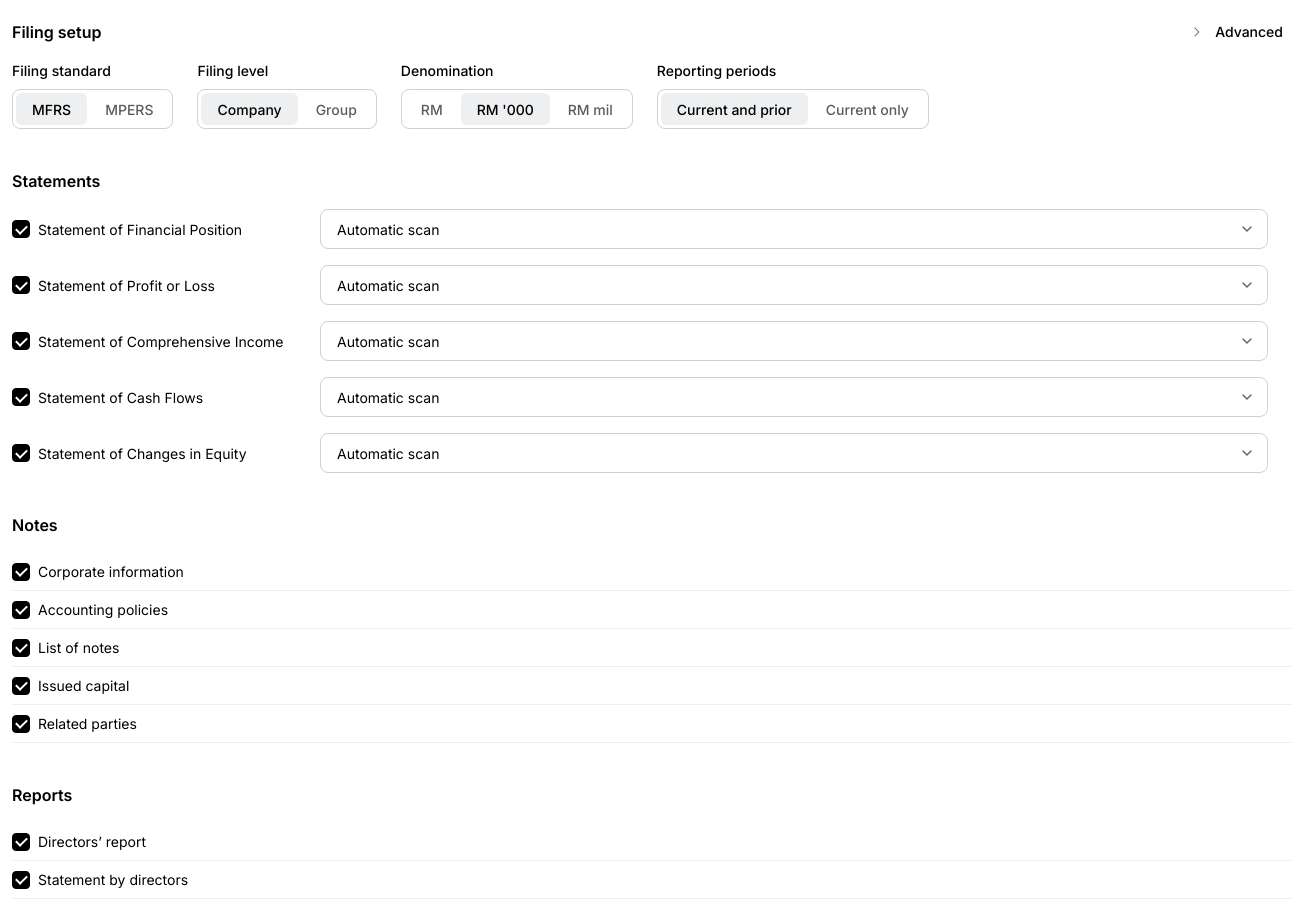
Test case: PreRunPanel › auto-detect reads variant_suggestion and normalizes confidence
Click the button with test id "advanced-toggle" at (1235, 32), box [1178,12,1292,52]
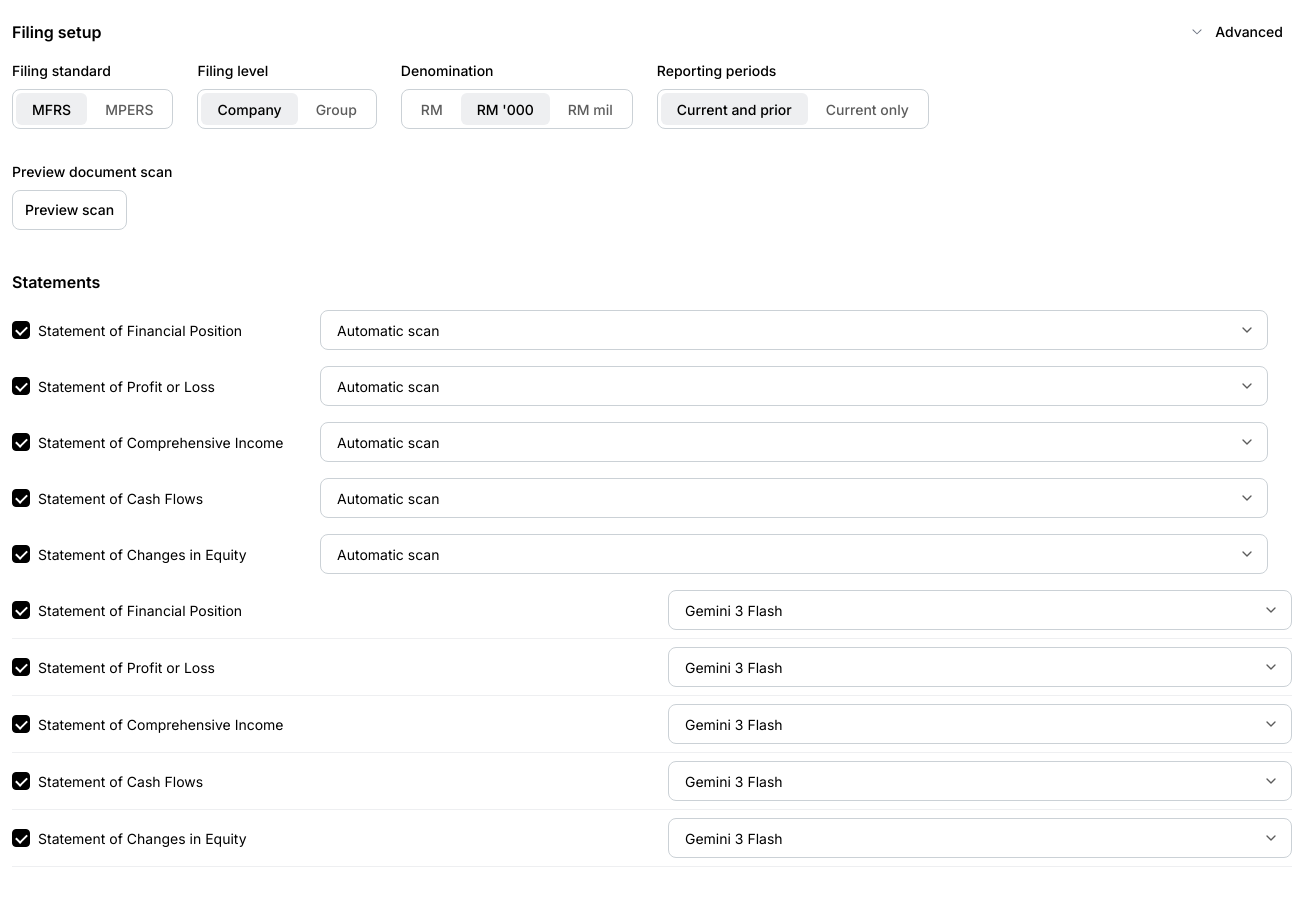
Result: the button with aria-label "auto-detect" is shown
Click the button with aria-label "auto-detect" at (70, 210), box [12,190,127,230]
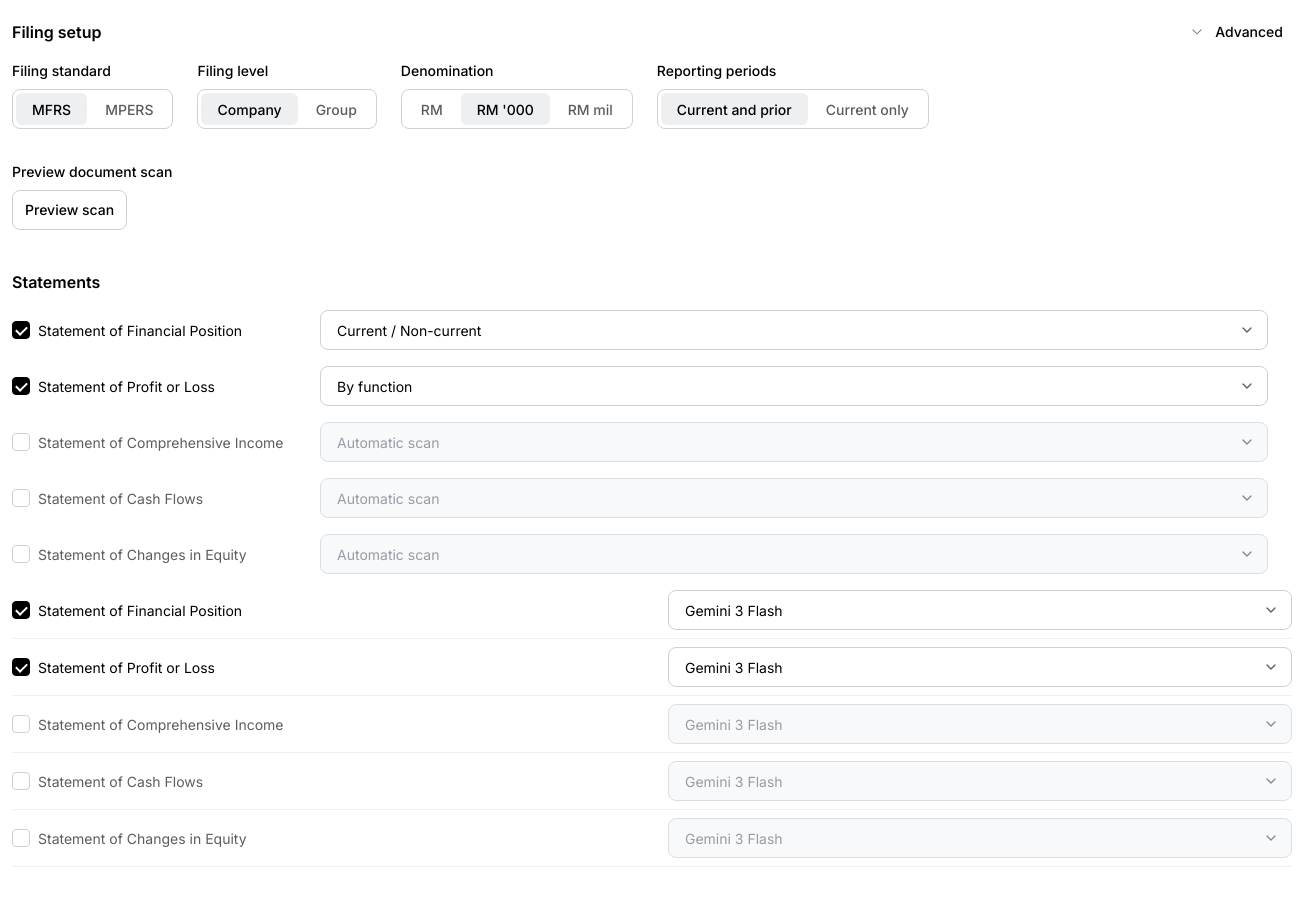
Result: the dropdown named "Format for SOFP — Statement of Financial Position" shows "Current / Non-current" at [320,310,1268,350]
